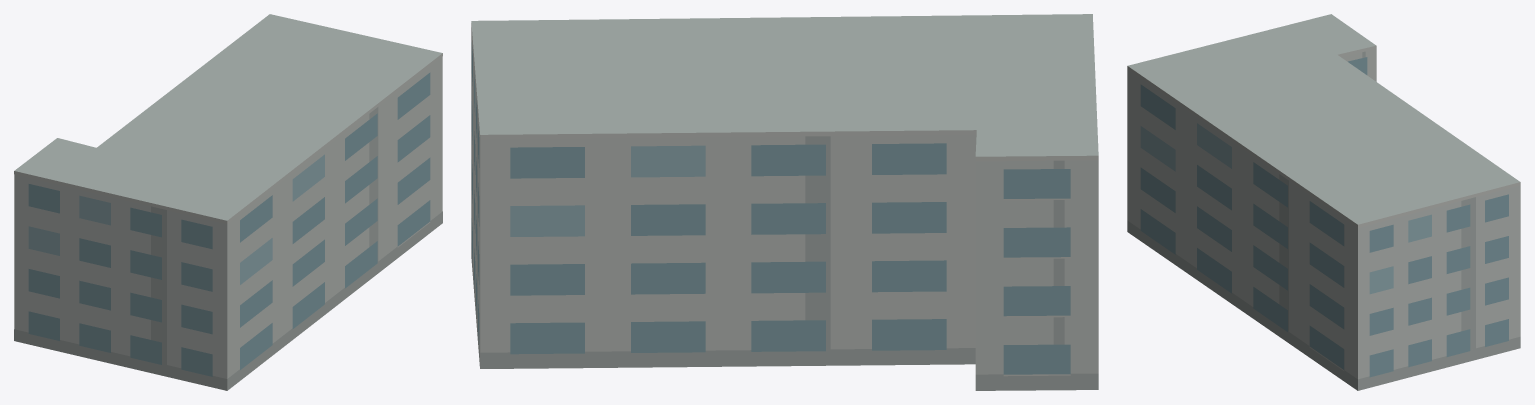
The model's file is survey-upis-32677332.glb.
The picture shows the model from 3 angles, left to right: view 1: azimuth 30°, elevation 25°; view 2: azimuth 150°, elevation 25°; view 3: azimuth 270°, elevation 25°; orthographic projection. The views are drawn at different scales.
Parts seen in each view (by area): view 1: survey-upis-32677332.tmp; view 2: survey-upis-32677332.tmp; view 3: survey-upis-32677332.tmp.
Part boxes in pixels (x1,y1,x2,y2): survey-upis-32677332.tmp: (14, 14, 442, 390); survey-upis-32677332.tmp: (471, 14, 1098, 390); survey-upis-32677332.tmp: (1127, 14, 1520, 390).
Size of the model in its own units: 33.19 by 12.2 by 26.17.
